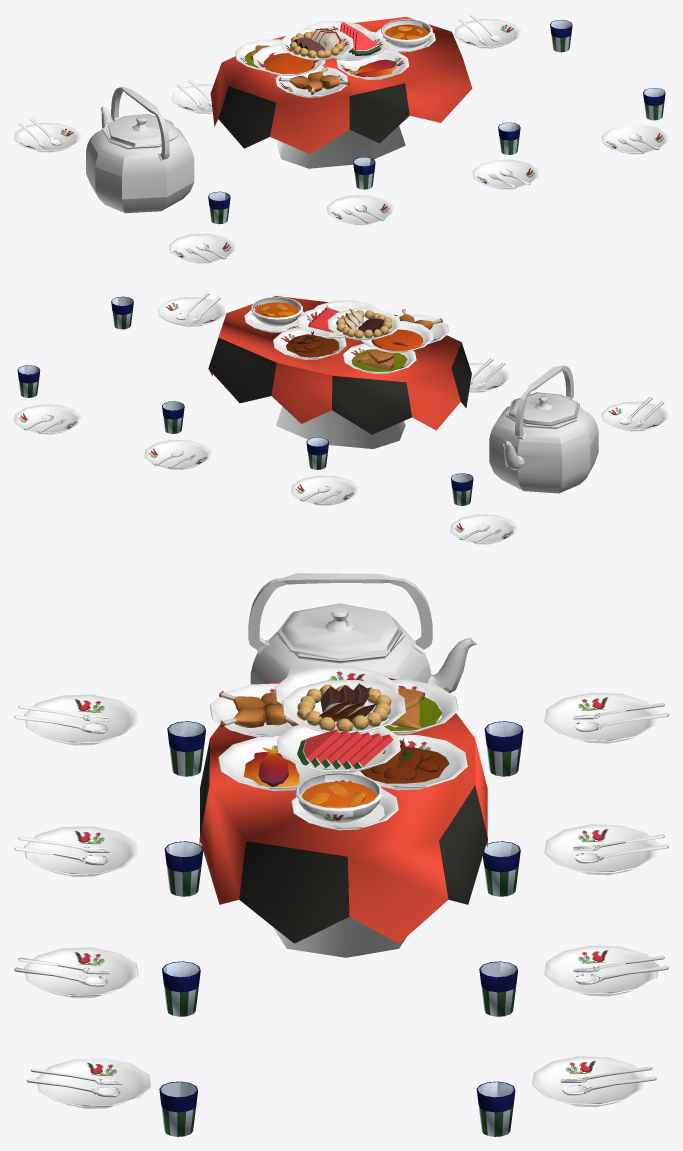
The model's file is BajambaFix.fbx.
3 views of the same model, one above another, from view 1: azimuth 30°, elevation 25°; view 2: azimuth 150°, elevation 25°; view 3: azimuth 270°, elevation 25° (orthographic). The views are drawn at different scales.
Visible parts, largest first — view 1: Bajamba.004, piring.031, Bajamba.003, ceret.016, piring.032, ceret.015, gelas.027, tutup ceret.016, gelas.025, piring.029, piring.030, gelas.028; view 2: Bajamba.003, Bajamba.004, piring.032, ceret.015, piring.031, gelas.026, ceret.016, tutup ceret.016, piring.030, piring.029, gelas.025, tutup ceret.015; view 3: Bajamba.004, piring.032, piring.031, Bajamba.003, ceret.016, tutup ceret.016, gelas.026, gelas.025, gelas.027, gelas.028, piring.029, piring.030 (+1 smaller).
Part boxes in pixels (left/top/right/bottom): Bajamba.004: left=210, top=17, right=472, bottom=153; piring.031: left=169, top=124, right=668, bottom=262; Bajamba.003: left=248, top=19, right=430, bottom=168; ceret.016: left=89, top=86, right=194, bottom=199; piring.032: left=14, top=14, right=521, bottom=151; ceret.015: left=86, top=87, right=194, bottom=213; gelas.027: left=208, top=88, right=665, bottom=223; tutup ceret.016: left=106, top=114, right=177, bottom=147; gelas.025: left=208, top=90, right=665, bottom=224; piring.029: left=184, top=134, right=659, bottom=263; piring.030: left=18, top=15, right=505, bottom=152; gelas.028: left=550, top=20, right=572, bottom=52; Bajamba.003: left=208, top=297, right=448, bottom=448; Bajamba.004: left=209, top=296, right=471, bottom=430; piring.032: left=14, top=404, right=517, bottom=543; ceret.015: left=489, top=366, right=598, bottom=493; piring.031: left=158, top=292, right=668, bottom=430; gelas.026: left=17, top=365, right=473, bottom=505; ceret.016: left=491, top=365, right=598, bottom=447; tutup ceret.016: left=507, top=392, right=579, bottom=424; piring.030: left=23, top=414, right=502, bottom=544; piring.029: left=159, top=293, right=664, bottom=431; gelas.025: left=111, top=297, right=133, bottom=329; tutup ceret.015: left=507, top=397, right=579, bottom=426; Bajamba.004: left=199, top=666, right=475, bottom=943; piring.032: left=532, top=692, right=668, bottom=1104; piring.031: left=14, top=694, right=150, bottom=1106; Bajamba.003: left=209, top=679, right=487, bottom=957; ceret.016: left=248, top=573, right=474, bottom=689; tutup ceret.016: left=277, top=603, right=401, bottom=659; gelas.026: left=477, top=721, right=523, bottom=1136; gelas.025: left=159, top=721, right=205, bottom=1136; gelas.027: left=159, top=721, right=205, bottom=1132; gelas.028: left=476, top=721, right=522, bottom=1135; piring.029: left=14, top=706, right=150, bottom=1108; piring.030: left=556, top=704, right=668, bottom=1107.
Size of the model in its own units: 415 by 89.57 by 264.
